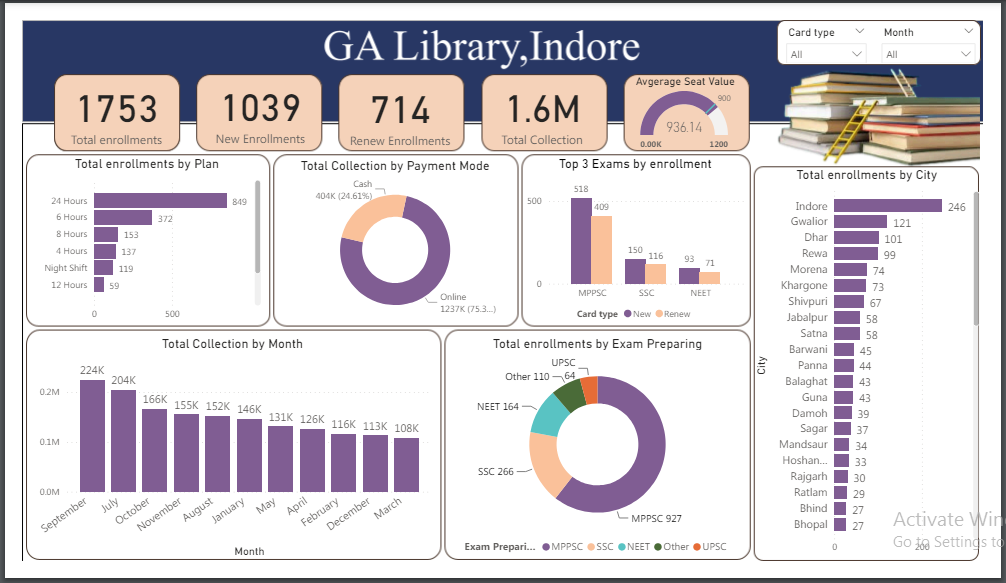

What the dashboard file says about the page in this screenshot:
{"tool":"powerbi","page":{"name":"Student Trend Analysis","canvas":[1280,720],"ordinal":0},"visuals":[{"type":"card","fields":{"Values":["Table.total enrollments"]},"box":[41.7,71.7,168.3,100],"z":0},{"type":"card","fields":{"Values":["Table.new admission"]},"box":[235,70,165,103.3],"z":1000},{"type":"card","fields":{"Values":["Table.Renew Enrollments"]},"box":[421.7,73.3,163.3,101.7],"z":2000},{"type":"card","fields":{"Values":["Table.Total Collection"]},"box":[613.3,71.7,160,101.7],"z":3000},{"type":"gauge","title":"Avgerage Seat Value","fields":{"Y":["Table.Avg Seat Value"],"MaxValue":["Dax Table.Max Value"],"TargetValue":["Dax Table.Target"]},"box":[795,73.3,176.7,110],"z":4000},{"type":"slicer","fields":{"Values":["GA Study Cafe  - Admission (1).Joining Date.Variation.Date Hierarchy.Month"]},"box":[1135,3.3,145,53.3],"z":5000},{"type":"barChart","title":"Total enrollments by City","fields":{"Category":["City.City"],"Y":["Table.total enrollments"]},"box":[971.4,195.7,308.6,524.3],"z":6000},{"type":"donutChart","title":"Total enrollments by Exam Preparing","fields":{"Category":["Exams.Exam Preparing for"],"Y":["Table.total enrollments"]},"box":[565.7,420,401.4,300],"z":7000},{"type":"clusteredBarChart","title":"Total enrollments by Plan","fields":{"Category":["Plans.Plan"],"Y":["Dax Table.total enrollments"]},"box":[10,181.4,312.9,227.1],"z":8000},{"type":"donutChart","fields":{"Category":["Payment Modes.Payment Mode"],"Y":["Table.Total Collection"]},"box":[337.1,184.3,320,224.3],"z":9000},{"type":"slicer","fields":{"Values":["Card Type.Card type"]},"box":[1008.3,3.3,126.7,53.3],"z":10000},{"type":"clusteredColumnChart","title":"Total Collection by Month","fields":{"Category":["GA Study Cafe  - Admission (1).Month"],"Y":["Sum(GA Study Cafe  - Admission (1).Total Amount)"]},"box":[10,420,541.4,300],"z":11000},{"type":"clusteredColumnChart","title":"Top 3 Exams by enrollment","fields":{"Category":["Exams.Exam Preparing for"],"Y":["Table.total enrollments"],"Series":["Card Type.Card type"]},"box":[667.1,181.4,300,227.1],"z":12000}]}

Visuals, with their boxes in screenshot pixels (x1, y1, x2, y2), scaled from the page's 1280x720 canvas onto the 1006x583 screenshot:
card - Table.total enrollments: 33:58:165:139
card - Table.new admission: 185:57:314:140
card - Table.Renew Enrollments: 331:59:460:142
card - Table.Total Collection: 482:58:608:140
"Avgerage Seat Value" gauge: 625:59:764:148
slicer - GA Study Cafe  - Admission (1).Joining Date.Variation.Date Hierarchy.Month: 892:3:1005:46
"Total enrollments by City" barChart: 763:158:1005:582
"Total enrollments by Exam Preparing" donutChart: 445:340:760:582
"Total enrollments by Plan" clusteredBarChart: 8:147:254:331
donutChart - Payment Modes.Payment Mode x Table.Total Collection: 265:149:516:331
slicer - Card Type.Card type: 792:3:892:46
"Total Collection by Month" clusteredColumnChart: 8:340:433:582
"Top 3 Exams by enrollment" clusteredColumnChart: 524:147:760:331
